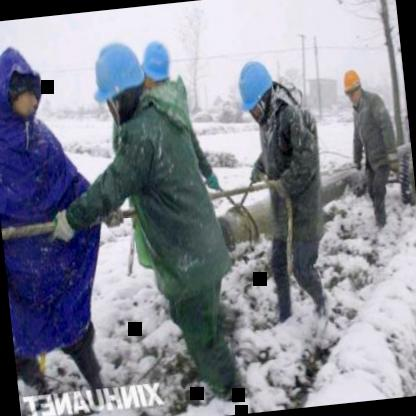head: (0, 49, 46, 130)
helmet: (86, 32, 146, 130), (230, 51, 280, 134), (138, 36, 174, 94), (338, 64, 365, 107)
